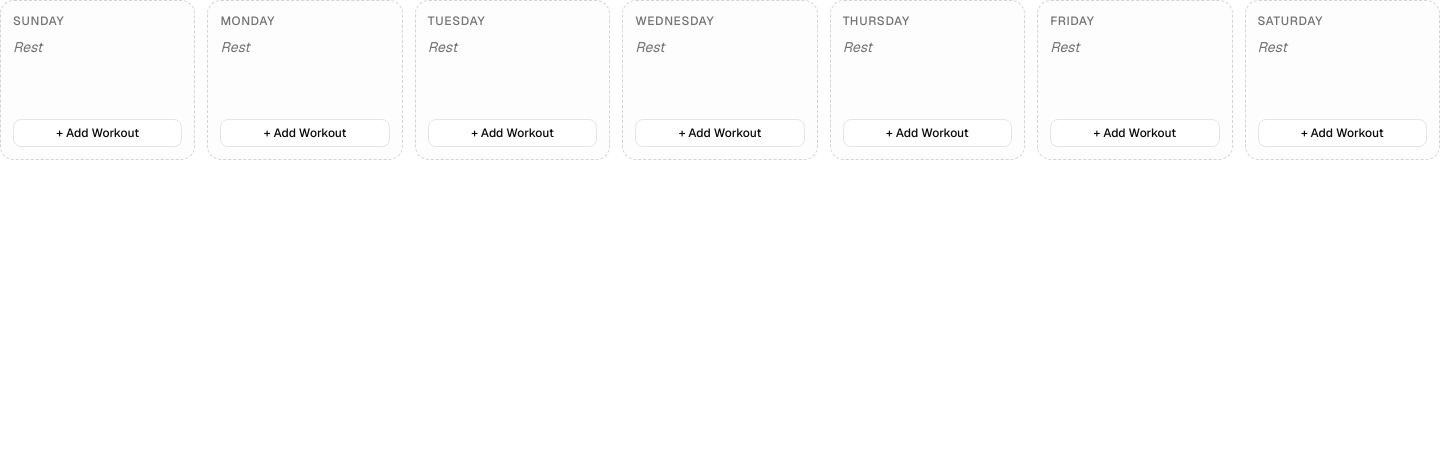
Test case: ScheduleGrid › inline form › clicking "+ Add Workout" opens inline form with template picker, then time/duration after selection
The image size is (1440, 453).
Click the button "+ Add Workout" below "Monday" at (305, 133), box top-left (220, 119), bottom-right (390, 147)
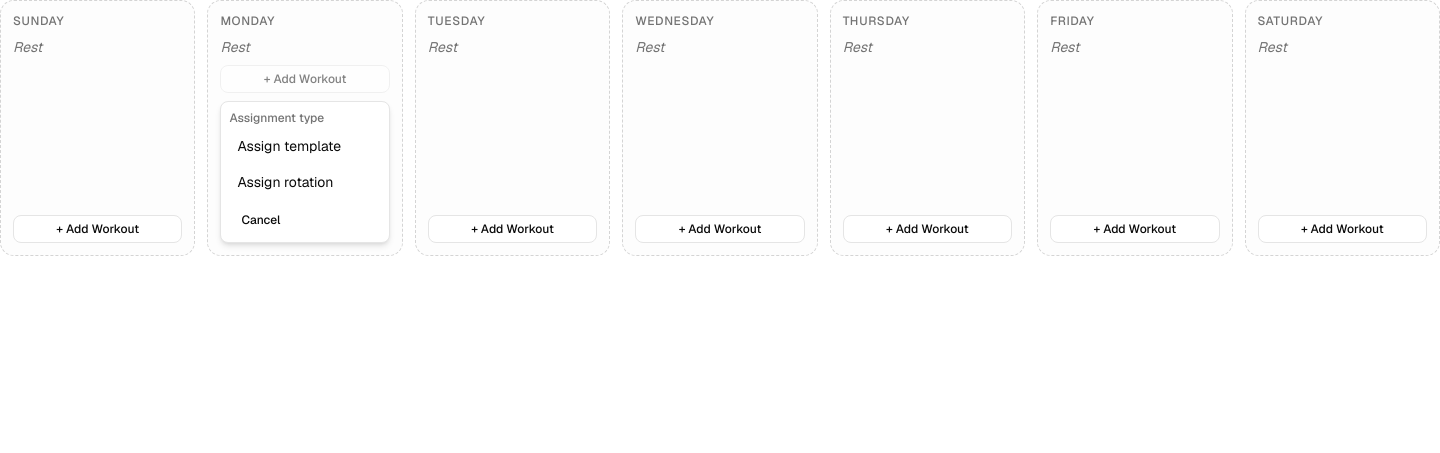
Check: the element with test id "add-workout-form" is shown, box top-left (220, 101), bottom-right (390, 243)
Check: the text "Assign template" is shown
Check: the text "Assign rotation" is shown, box top-left (237, 173), bottom-right (333, 191)
Select "Assign template" to see template picker
Click the text "Assign template" at (289, 146), box top-left (237, 137), bottom-right (341, 155)
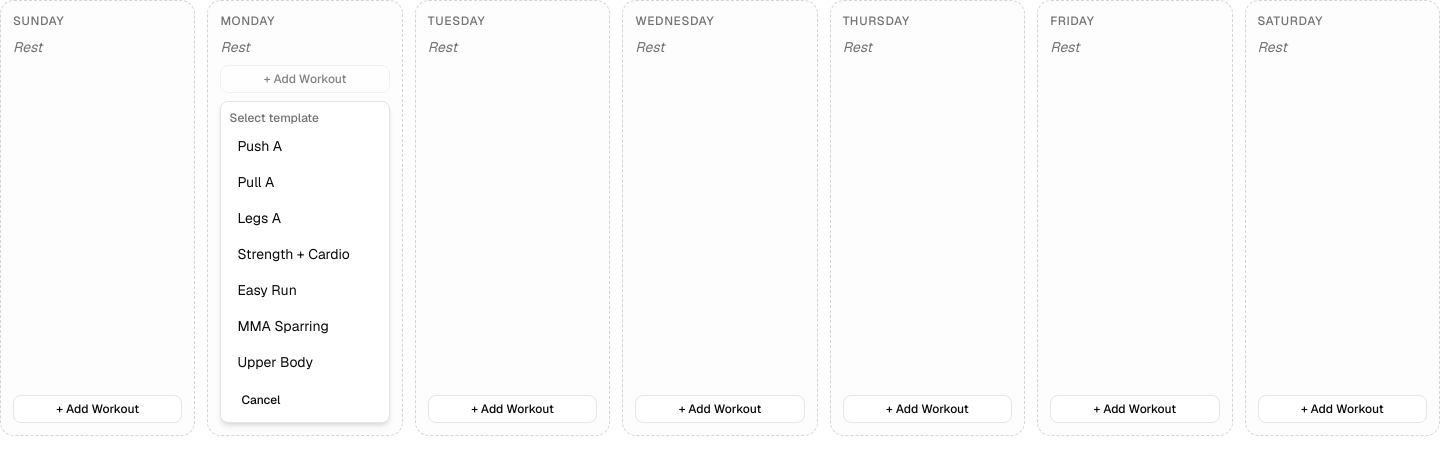
Check: the text "Push A" is shown
Select template to see time/duration inputs
Click the text "Push A" at (260, 146), box top-left (237, 137), bottom-right (282, 155)
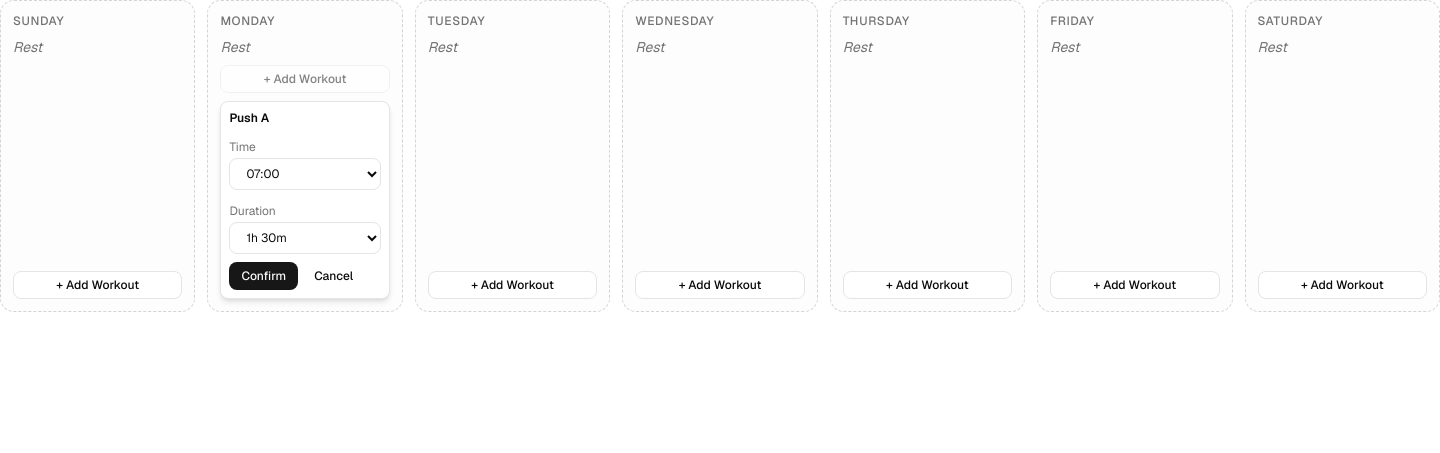
Check: the dropdown labelled "Time" is shown, box top-left (229, 158), bottom-right (381, 190)
Check: the dropdown labelled "Duration" is shown, box top-left (229, 222), bottom-right (381, 254)
